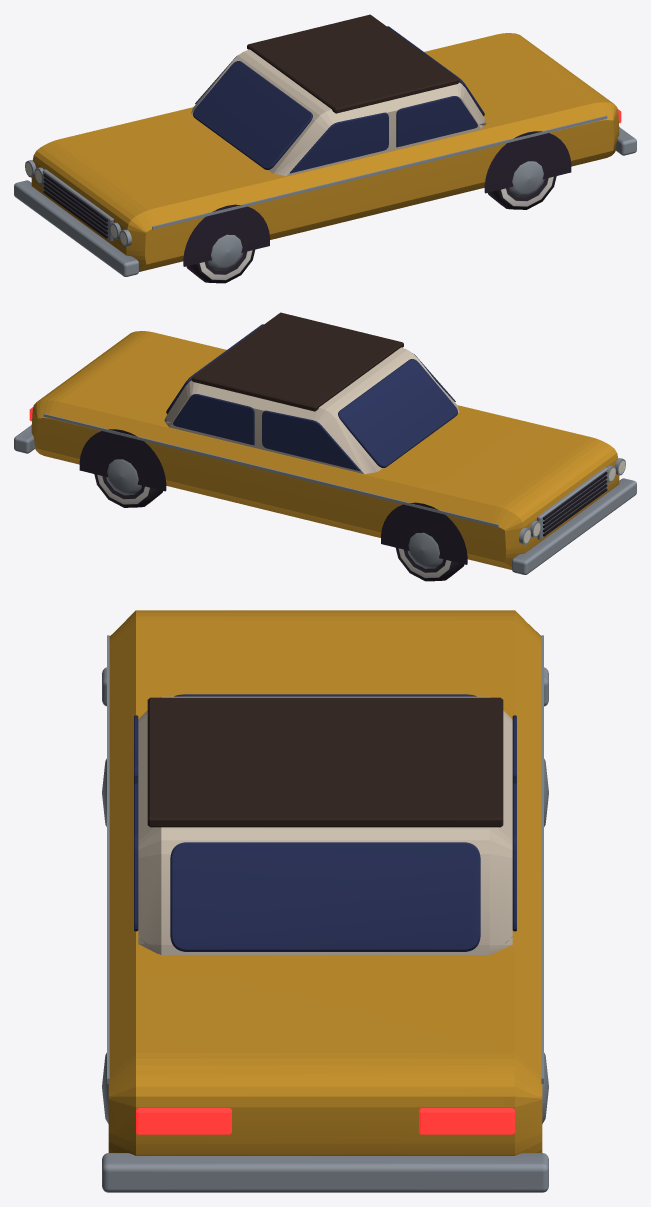
The model's file is st_car_70s__238.glb.
The picture shows the model from 3 angles, top to bottom: view 1: azimuth 30°, elevation 25°; view 2: azimuth 150°, elevation 25°; view 3: azimuth 270°, elevation 25°; orthographic projection. The views are drawn at different scales.
Parts seen in each view (by area): view 1: merged_toon_ffffff, merged_toon_27305A, merged_toon_8E96A0, merged_toon_2A2232, prop_st_car_70s; view 2: merged_toon_ffffff, merged_toon_27305A, merged_toon_8E96A0, merged_toon_2A2232, prop_st_car_70s; view 3: merged_toon_ffffff, merged_toon_27305A, merged_toon_8E96A0, merged_glow_C8201E.
Part boxes in pixels (x1,y1,x2,y2): merged_toon_ffffff: (31, 14, 619, 271); merged_toon_27305A: (193, 26, 484, 173); merged_toon_8E96A0: (14, 115, 636, 276); merged_toon_2A2232: (183, 131, 571, 266); prop_st_car_70s: (25, 162, 556, 283); merged_toon_ffffff: (31, 312, 619, 569); merged_toon_27305A: (166, 324, 457, 471); merged_toon_8E96A0: (14, 413, 636, 574); merged_toon_2A2232: (79, 429, 467, 564); prop_st_car_70s: (94, 460, 625, 581); merged_toon_ffffff: (108, 610, 542, 1155); merged_toon_27305A: (134, 694, 516, 951); merged_toon_8E96A0: (102, 635, 548, 1192); merged_glow_C8201E: (136, 1108, 514, 1134).
Size of the model in its own units: 5.2 by 1.37 by 1.96.
